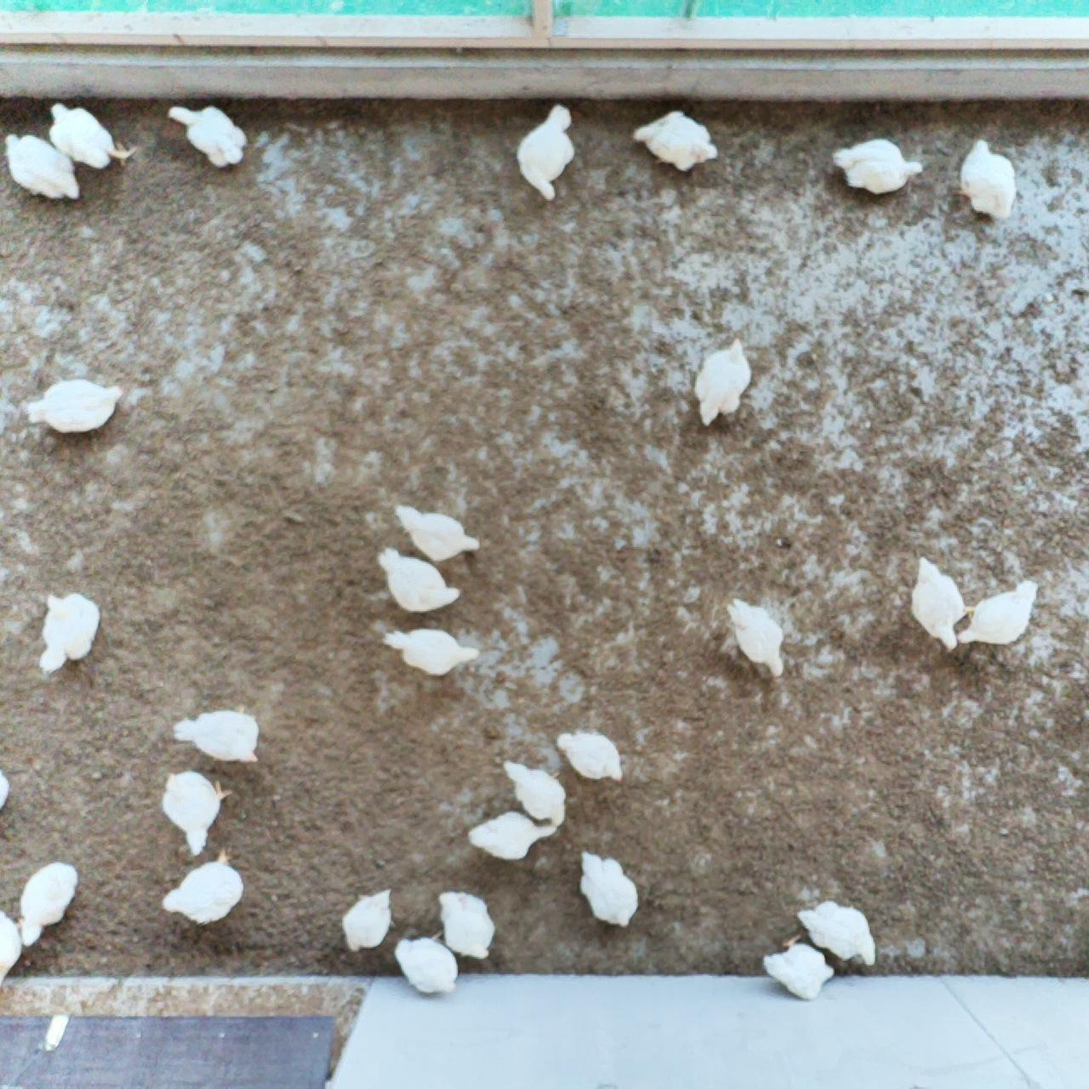chicken: (44, 96, 138, 175), (168, 698, 266, 771), (160, 845, 245, 929), (794, 894, 884, 972), (903, 553, 970, 656), (0, 130, 84, 212), (514, 99, 579, 204), (23, 375, 125, 441), (829, 132, 928, 200), (755, 929, 839, 1006), (722, 589, 793, 680), (159, 770, 233, 856), (162, 98, 250, 170), (375, 544, 464, 615), (630, 107, 720, 177), (390, 499, 484, 566), (958, 576, 1039, 653), (690, 333, 753, 431), (34, 586, 104, 674), (574, 845, 642, 932), (954, 135, 1020, 224), (379, 624, 482, 679), (18, 858, 80, 948), (464, 806, 559, 862), (500, 756, 570, 830), (435, 886, 498, 967), (551, 727, 629, 789), (392, 937, 464, 1003), (344, 886, 398, 953), (0, 906, 23, 989)
